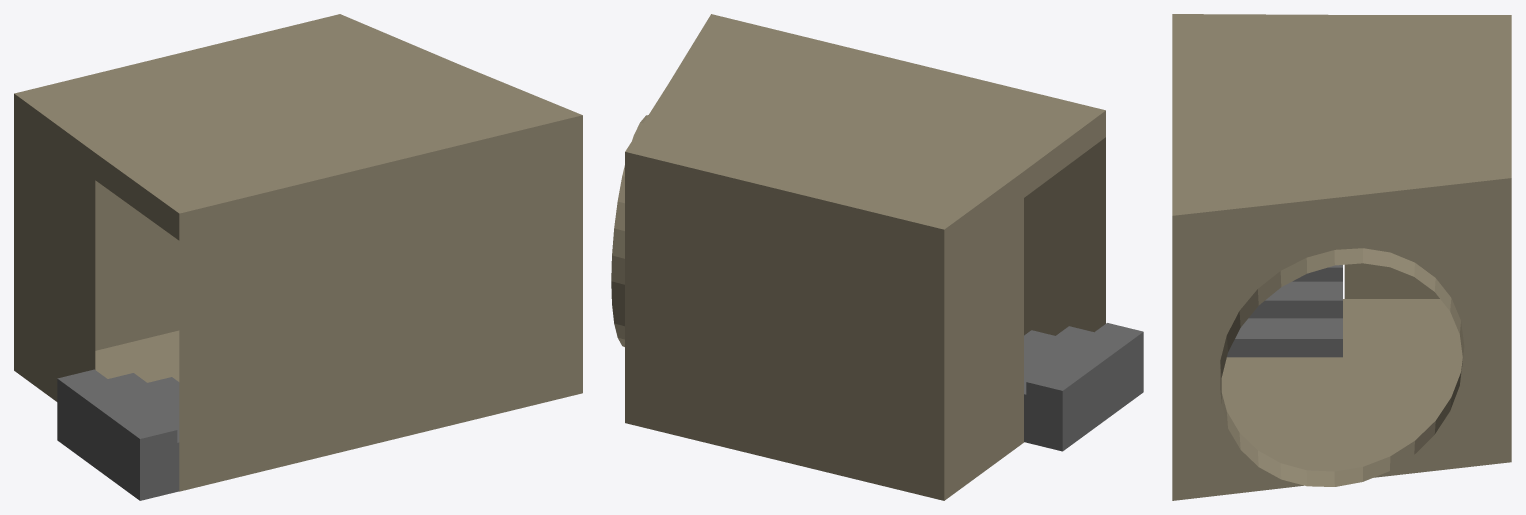
Rendered from EVARoom.glb.
The picture shows the model from 3 angles, left to right: view 1: azimuth 30°, elevation 25°; view 2: azimuth 150°, elevation 25°; view 3: azimuth 270°, elevation 25°; orthographic projection. The views are drawn at different scales.
Visible parts, largest first — view 1: EVA Room; view 2: EVA Room; view 3: EVA Room.
Boxes of the visible parts, <box> form: EVA Room: <box>14,14,582,500</box>; EVA Room: <box>611,14,1143,500</box>; EVA Room: <box>1172,14,1511,500</box>.
Size of the model in its own units: 5.41 by 3.08 by 3.32.
